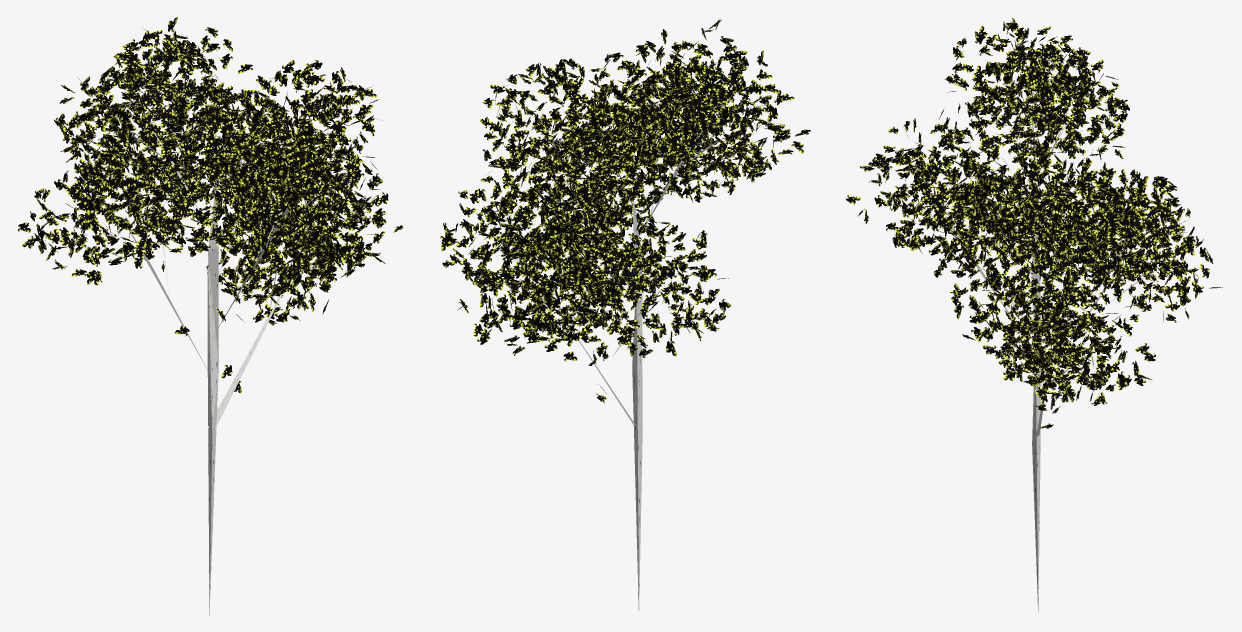
Rendered from birch_pale_v01_LOD1.fbx.
The picture shows the model from 3 angles, left to right: view 1: azimuth 30°, elevation 25°; view 2: azimuth 150°, elevation 25°; view 3: azimuth 270°, elevation 25°; orthographic projection. The views are drawn at different scales.
Parts seen in each view (by area): view 1: birch_pale_v01_LOD1; view 2: birch_pale_v01_LOD1; view 3: birch_pale_v01_LOD1.
Boxes of the visible parts, x1,y1,x2,y2 form: birch_pale_v01_LOD1: (18,16,403,616); birch_pale_v01_LOD1: (439,18,810,610); birch_pale_v01_LOD1: (846,17,1223,612).
Bounding box in the file's own units: 912 × 921 × 1528.
2 materials, 2 textured.
